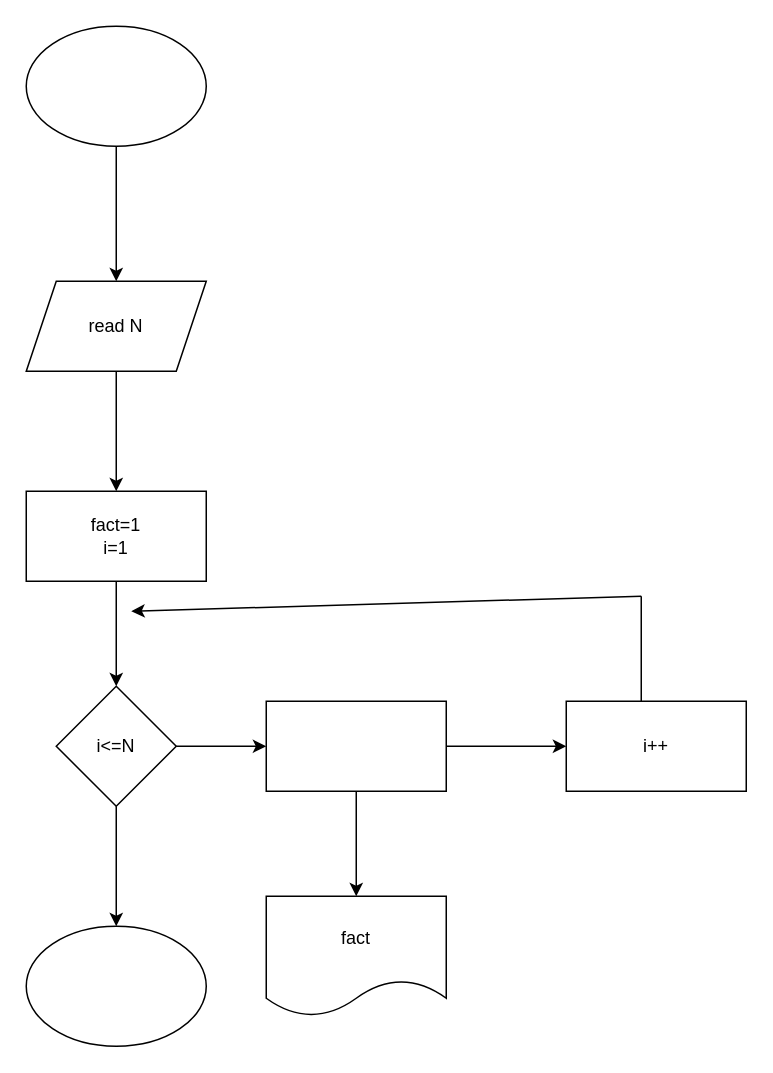
The diagram is 773 pixels wide and 1073 high, and some of its shapes have lost their labels. Each missing label, with the centre of its shape:
"END" belongs at point 115,985.
"fact=fact*i" belongs at point 355,745.
"START" belongs at point 115,85.
